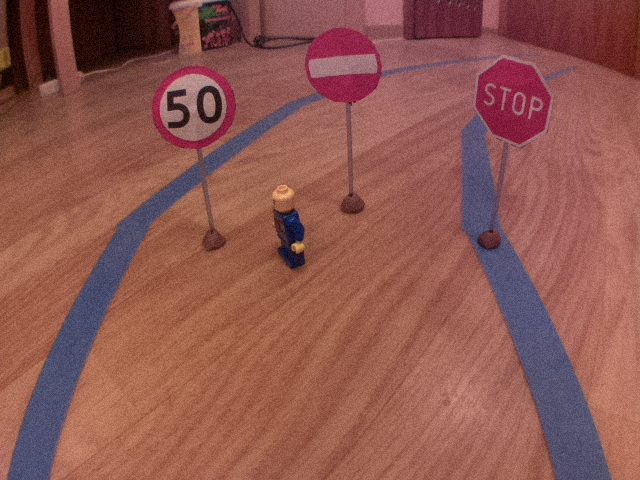LEGO_person: (268, 180, 310, 272)
ogr_50: (150, 63, 240, 151)
stop: (472, 52, 557, 149)
zakaz: (303, 26, 383, 105)
